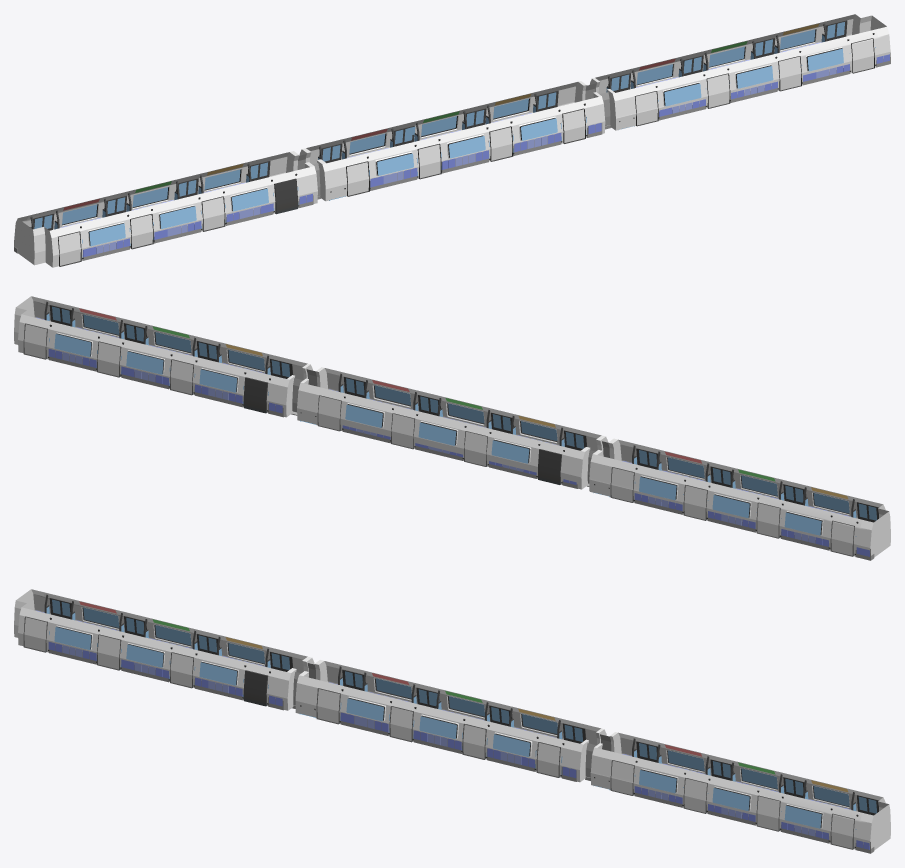
File: TRAIN.fbx
3 views of the same model, one above another, from view 1: azimuth 30°, elevation 25°; view 2: azimuth 150°, elevation 25°; view 3: azimuth 330°, elevation 25° (orthographic).
Visible parts, largest first — view 1: pasted__pPlane767 (×2), pPlane921, pCube3040; view 2: pasted__pPlane767 (×2), pPlane921, pCube3040, pCube3277; view 3: pasted__pPlane767 (×2), pPlane921, pCube3040.
Boxes of the visible parts, box(x1,y1,x2,y2) form: pasted__pPlane767 (×2): box(14, 14, 890, 267); pPlane921: box(299, 81, 605, 201); pCube3040: box(274, 179, 297, 214); pasted__pPlane767 (×2): box(14, 296, 890, 557); pPlane921: box(297, 367, 608, 489); pCube3040: box(243, 377, 267, 413); pCube3277: box(538, 449, 561, 484); pasted__pPlane767 (×2): box(14, 589, 890, 850); pPlane921: box(295, 660, 606, 782); pCube3040: box(243, 670, 267, 706).
Bounding box in the file's own units: 26.56 × 1.09 × 1.63.
Materials: 2 (1 with a texture image).
